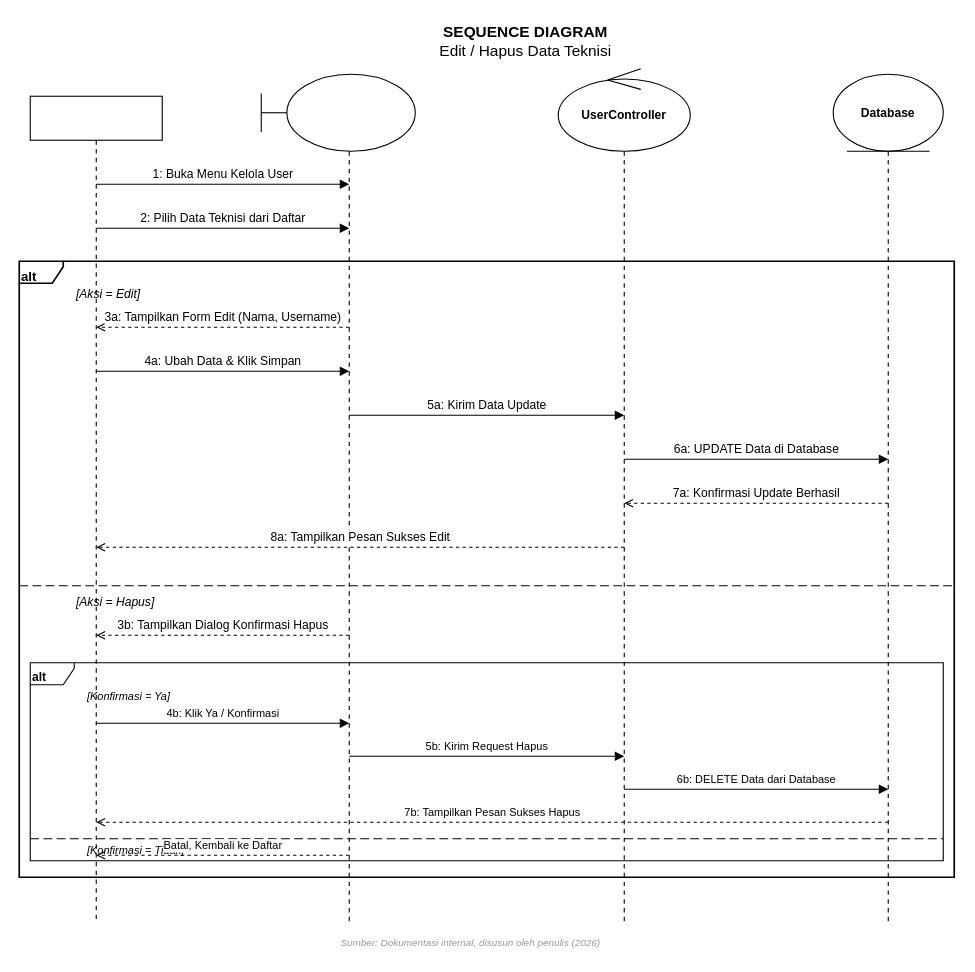
Image size: 975x972. Some labels were removed from this diagram. The centre of each missing label's shape, as x and y in pixels:
"Admin" goes at pixel 95 117.
"Halaman Kelola User" goes at pixel 337 112.
